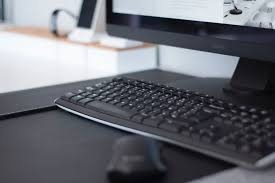keyboard: (55, 70, 275, 174)
mouse: (110, 133, 168, 183)
